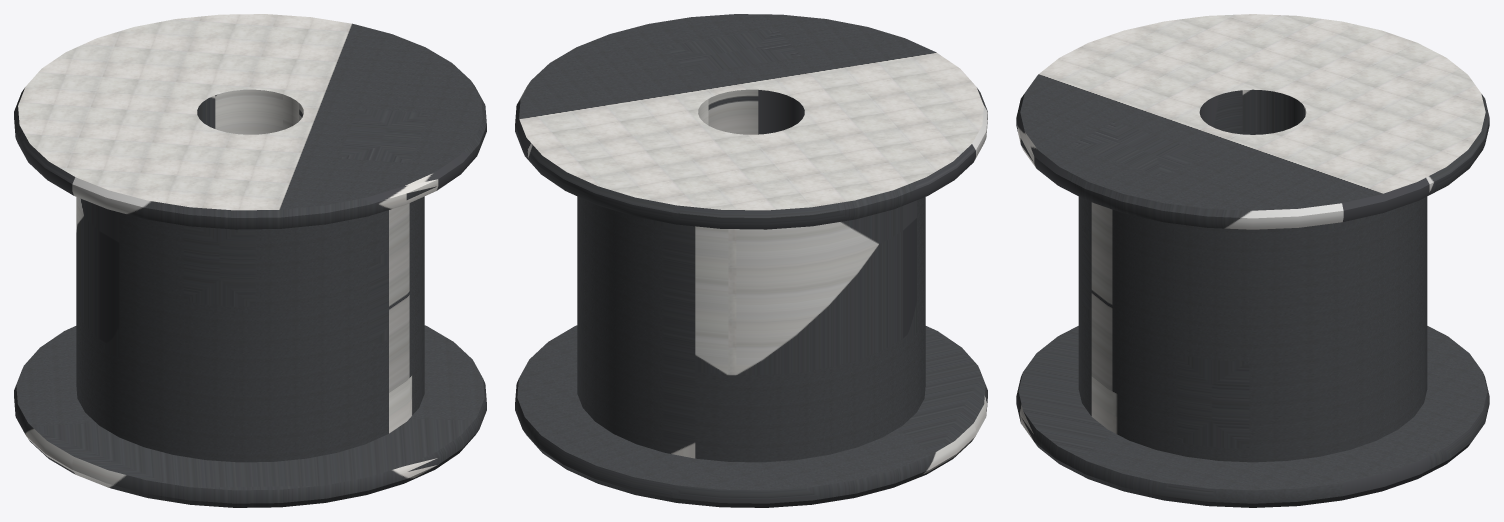
The model's file is copper_wire_.fbx.
3 renders of one model, left to right at view 1: azimuth 30°, elevation 25°; view 2: azimuth 150°, elevation 25°; view 3: azimuth 270°, elevation 25°, orthographic.
Visible parts, largest first — view 1: copper_wire_; view 2: copper_wire_; view 3: copper_wire_.
Boxes of the visible parts, left/top/right/bottom form: copper_wire_: left=14, top=14, right=486, bottom=507; copper_wire_: left=515, top=14, right=987, bottom=507; copper_wire_: left=1016, top=14, right=1489, bottom=507.
Bounding box in the file's own units: 20.29 × 14.06 × 20.29.
